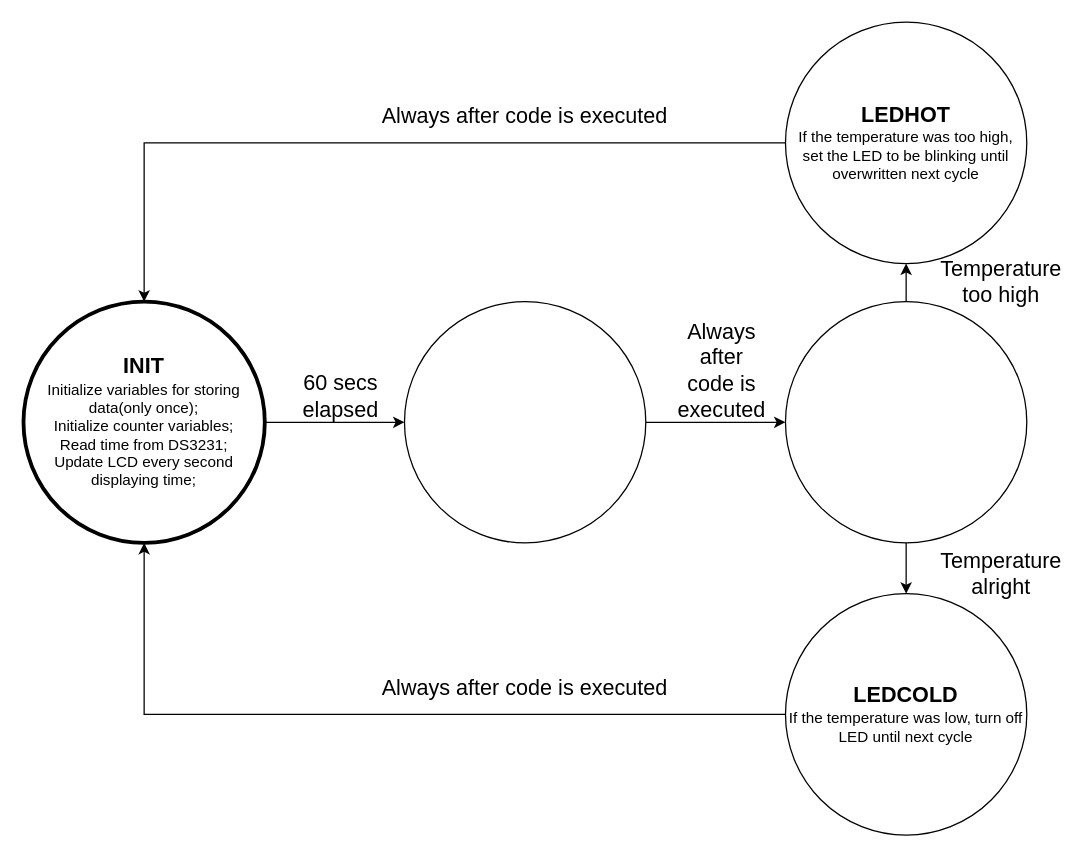
Some shapes in this 1083 by 857 pixel diagram are drawn without their labels. The shapes that lost their labels are listed below. From the top down, each one's centre as x and y in pixels, then its label:
At pixel 524 421: "HUMIDTEMP Read and store humidity and temperature values from DHT12".
At pixel 905 421: "DISPLAY Display stored values on LCD".
